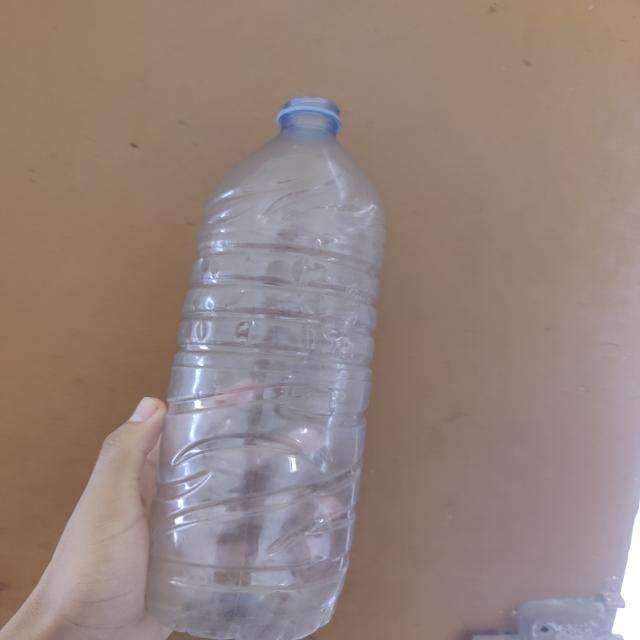plastic: (161, 94, 385, 640)
